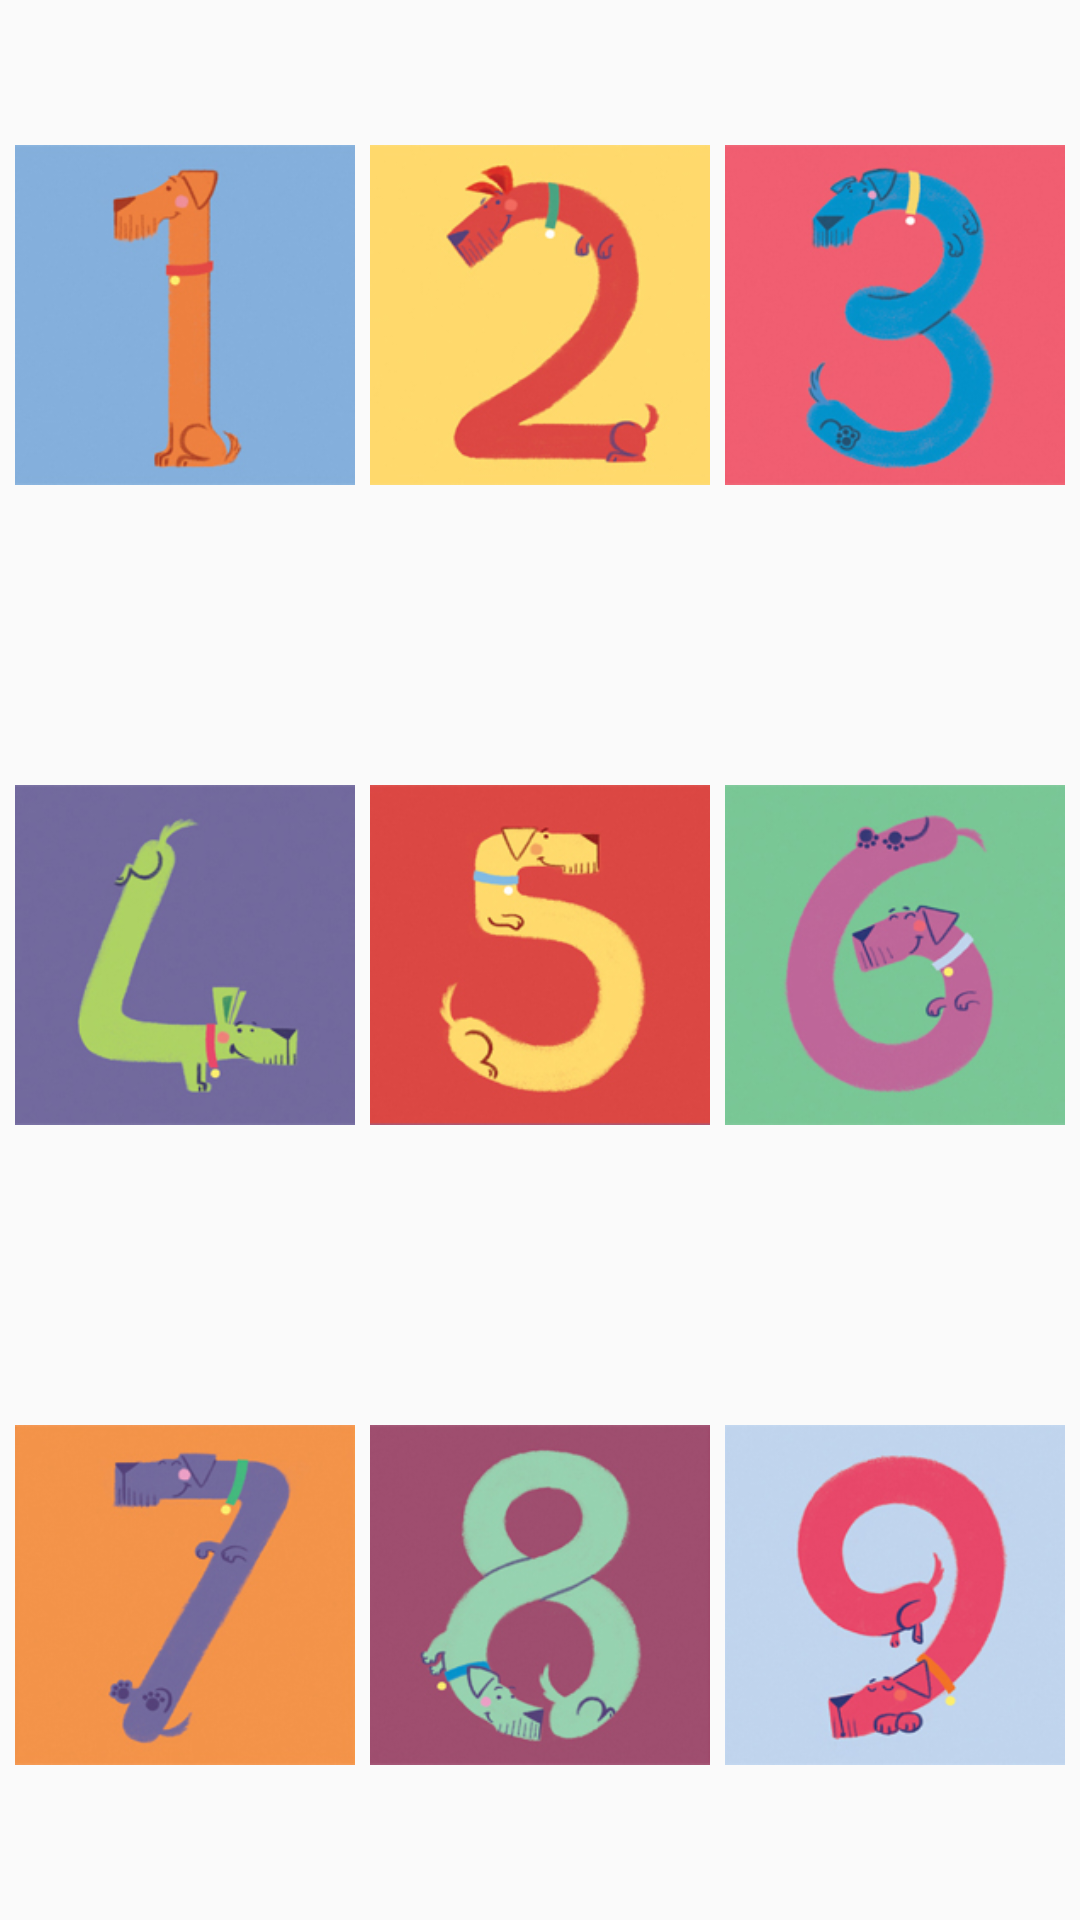

Icons on this 1080w x 1920h Android screen, each with its box as (x1, y1, x2, y2):
eight: (370, 1425, 710, 1765)
nine: (725, 1425, 1065, 1765)
seven: (15, 1425, 355, 1765)
six: (725, 785, 1065, 1125)
